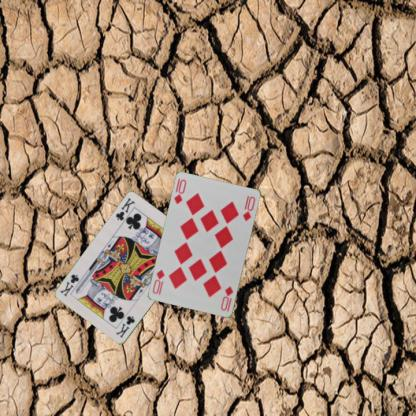10d: (172, 176, 188, 206), (218, 284, 235, 312)
Kc: (113, 196, 136, 223), (113, 314, 136, 339)
